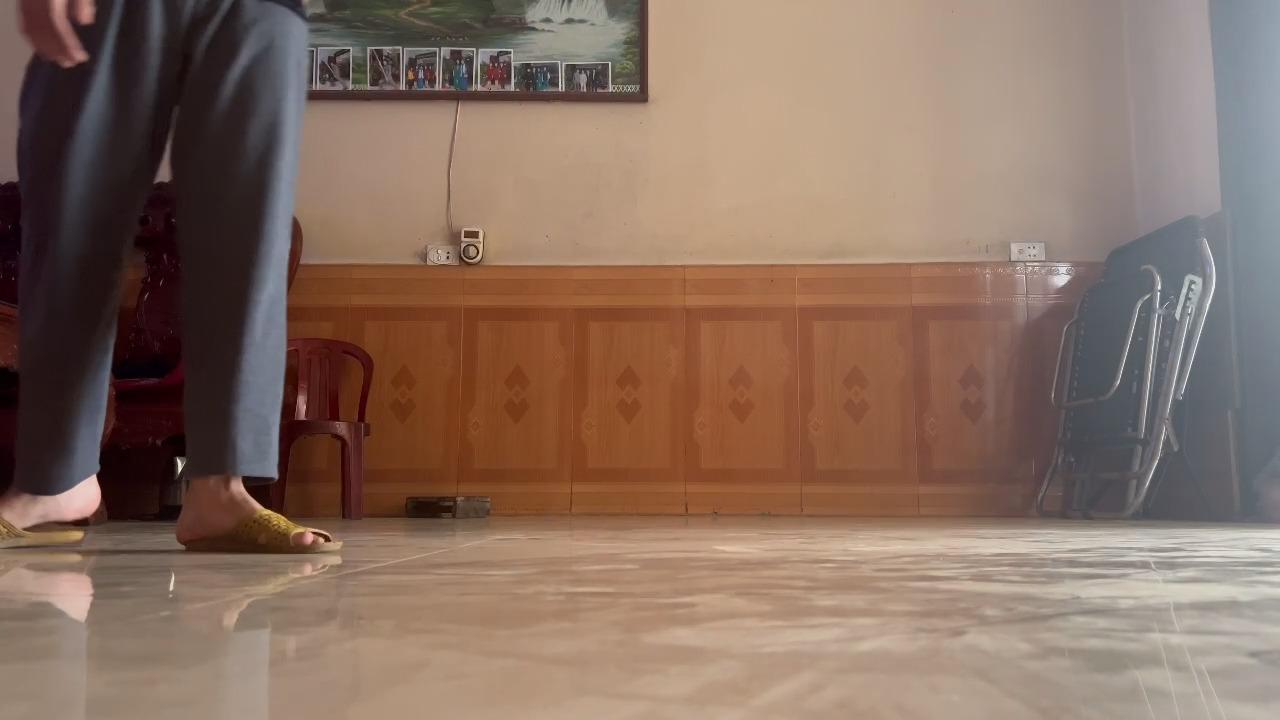no-boot: (163, 495, 353, 565), (0, 480, 123, 558)
